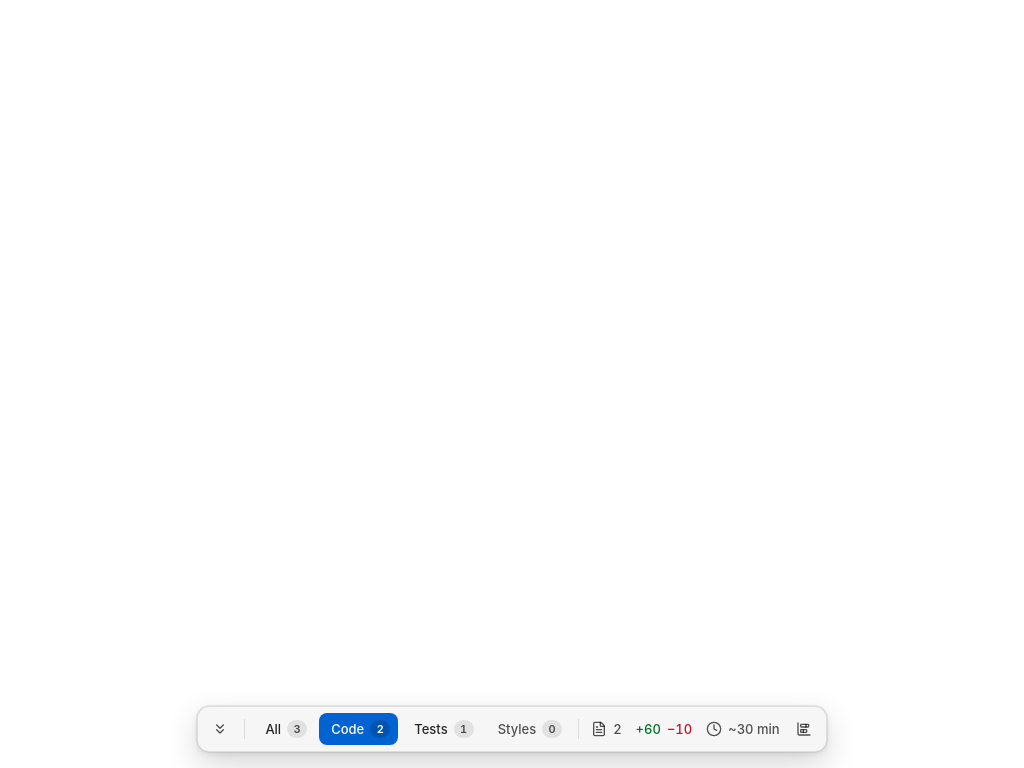
Scenario: FilterBar › breakdown › splits the pull request across the filters
Click the button named "Breakdown by filter" at {"x": 804, "y": 729}, box [788,713,820,745]
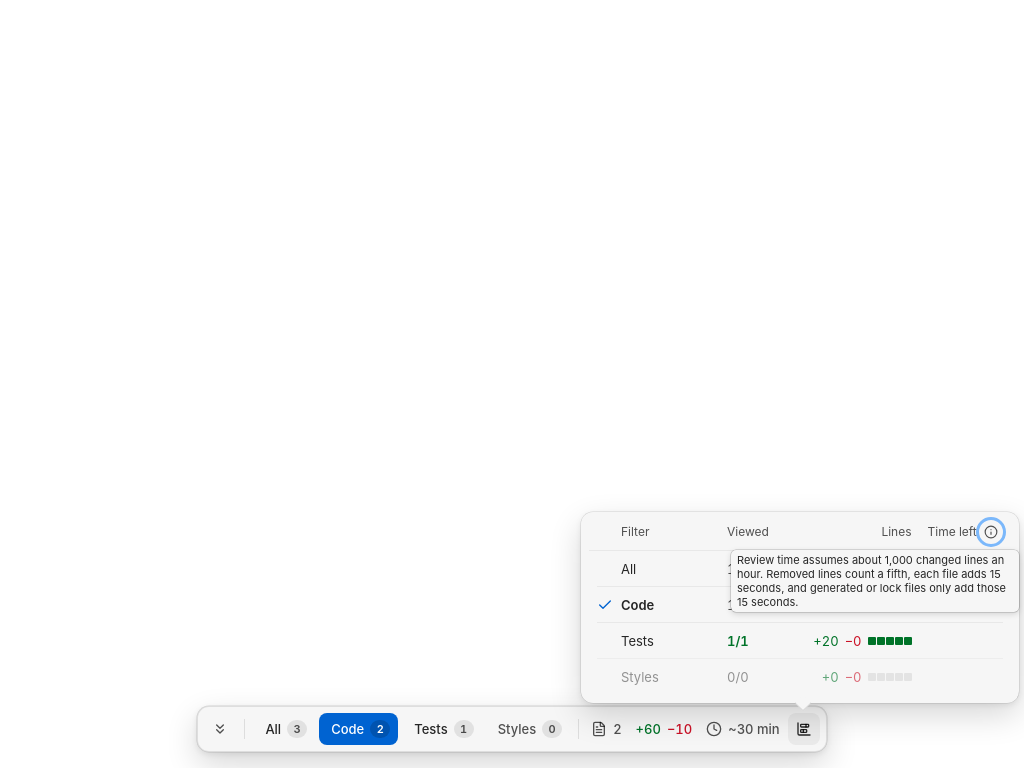
Result: the dialog named "Breakdown by Filter" is shown at [581,512,1019,703]
